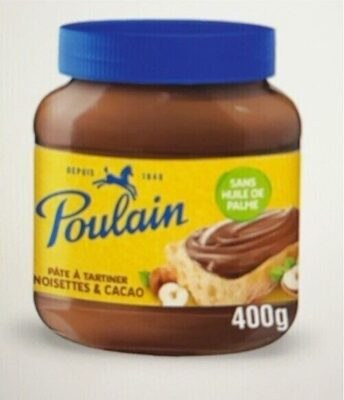Poulain: (17, 20, 327, 380)
